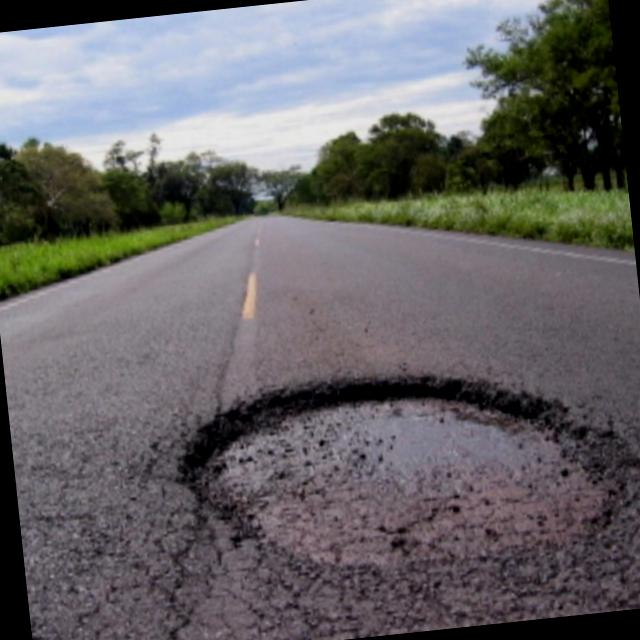bad-road: (169, 344, 640, 640)
